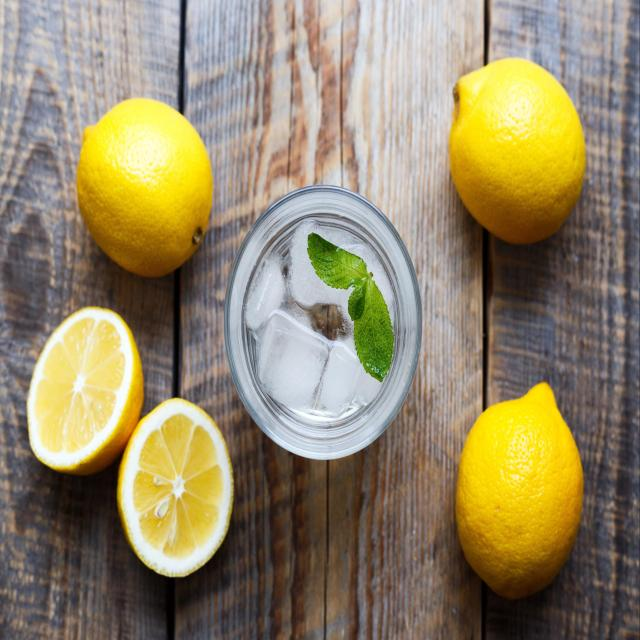lemon: (451, 376, 587, 604), (443, 54, 589, 250), (74, 91, 218, 283)
